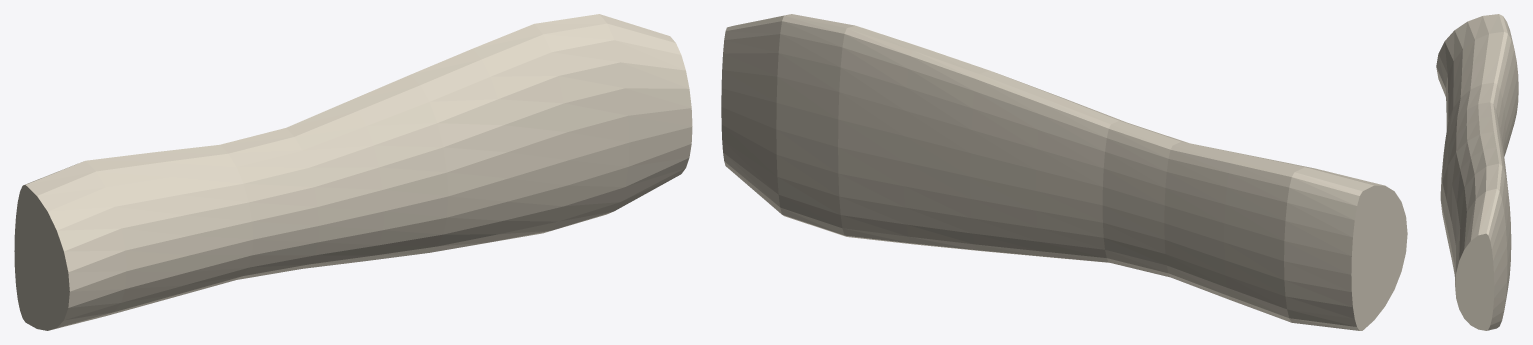
File: roman.glb
The picture shows the model from 3 angles, left to right: view 1: azimuth 30°, elevation 25°; view 2: azimuth 150°, elevation 25°; view 3: azimuth 270°, elevation 25°; orthographic projection. The views are drawn at different scales.
Parts seen in each view (by area): view 1: RomanFoot; view 2: RomanFoot; view 3: RomanFoot.
Boxes of the visible parts, x1,y1,x2,y2 form: RomanFoot: (14, 14, 692, 330); RomanFoot: (721, 14, 1407, 330); RomanFoot: (1436, 14, 1518, 330).
Size of the model in its own units: 0.29 by 0.0897 by 0.046.
